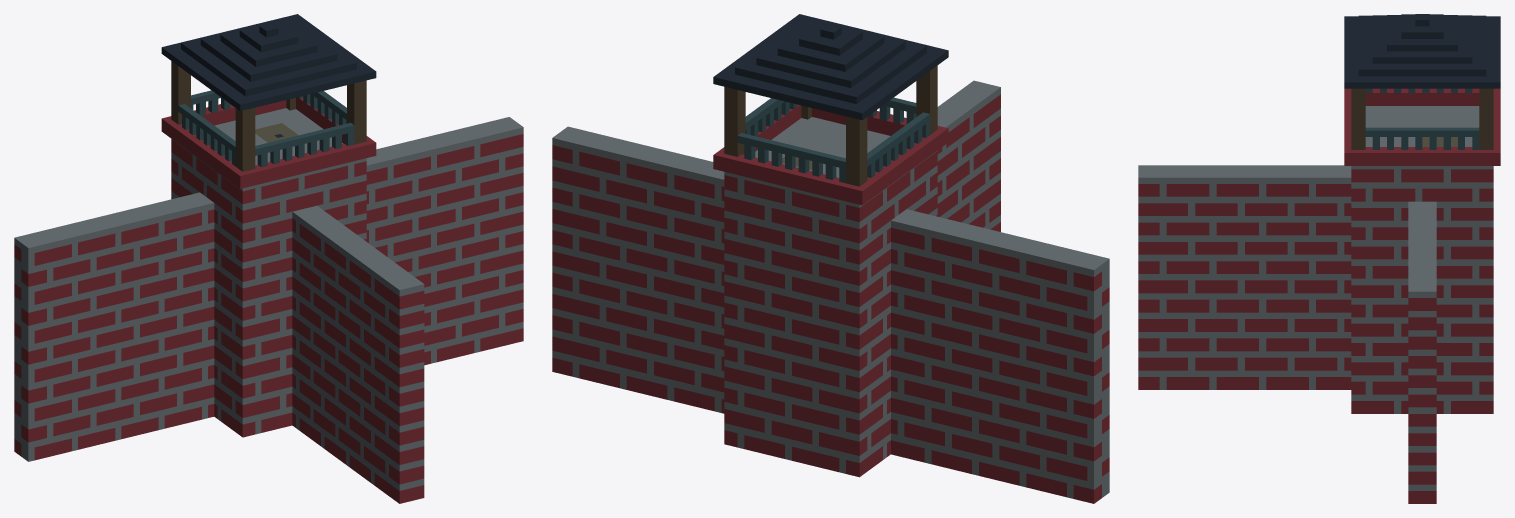
File: wall2_t.obj
The picture shows the model from 3 angles, left to right: view 1: azimuth 30°, elevation 25°; view 2: azimuth 150°, elevation 25°; view 3: azimuth 270°, elevation 25°; orthographic projection. The views are drawn at different scales.
Bounding box in the file's own units: 8 × 5.7 × 5.1.
1 material, 1 textured.
